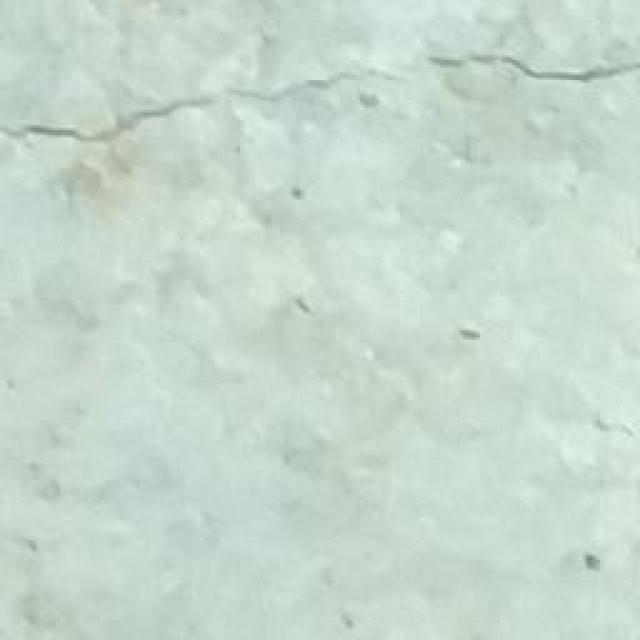Transverse: (0, 24, 640, 144)
